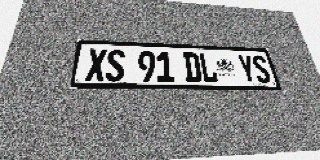1: (156, 51, 174, 82)
9: (139, 50, 156, 82)
D: (183, 52, 202, 82)
L: (198, 53, 219, 83)
S: (105, 49, 125, 82), (251, 55, 272, 83)
X: (85, 48, 107, 81)
Y: (236, 54, 258, 83)
